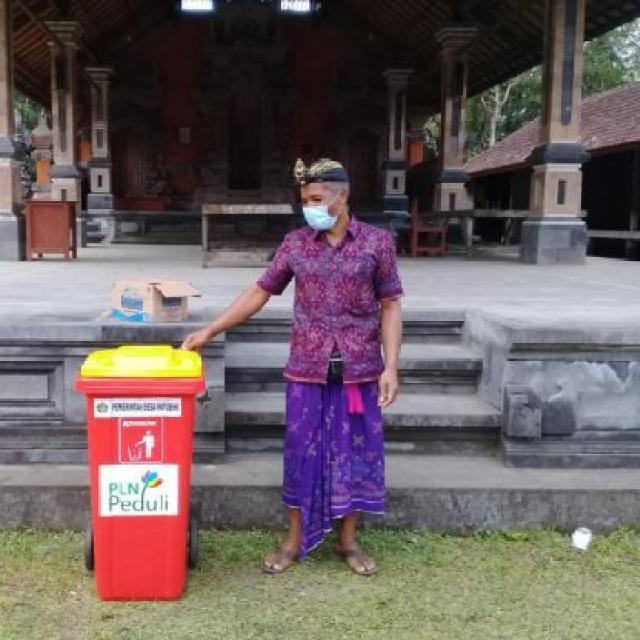garbage container: (71, 340, 217, 614)
